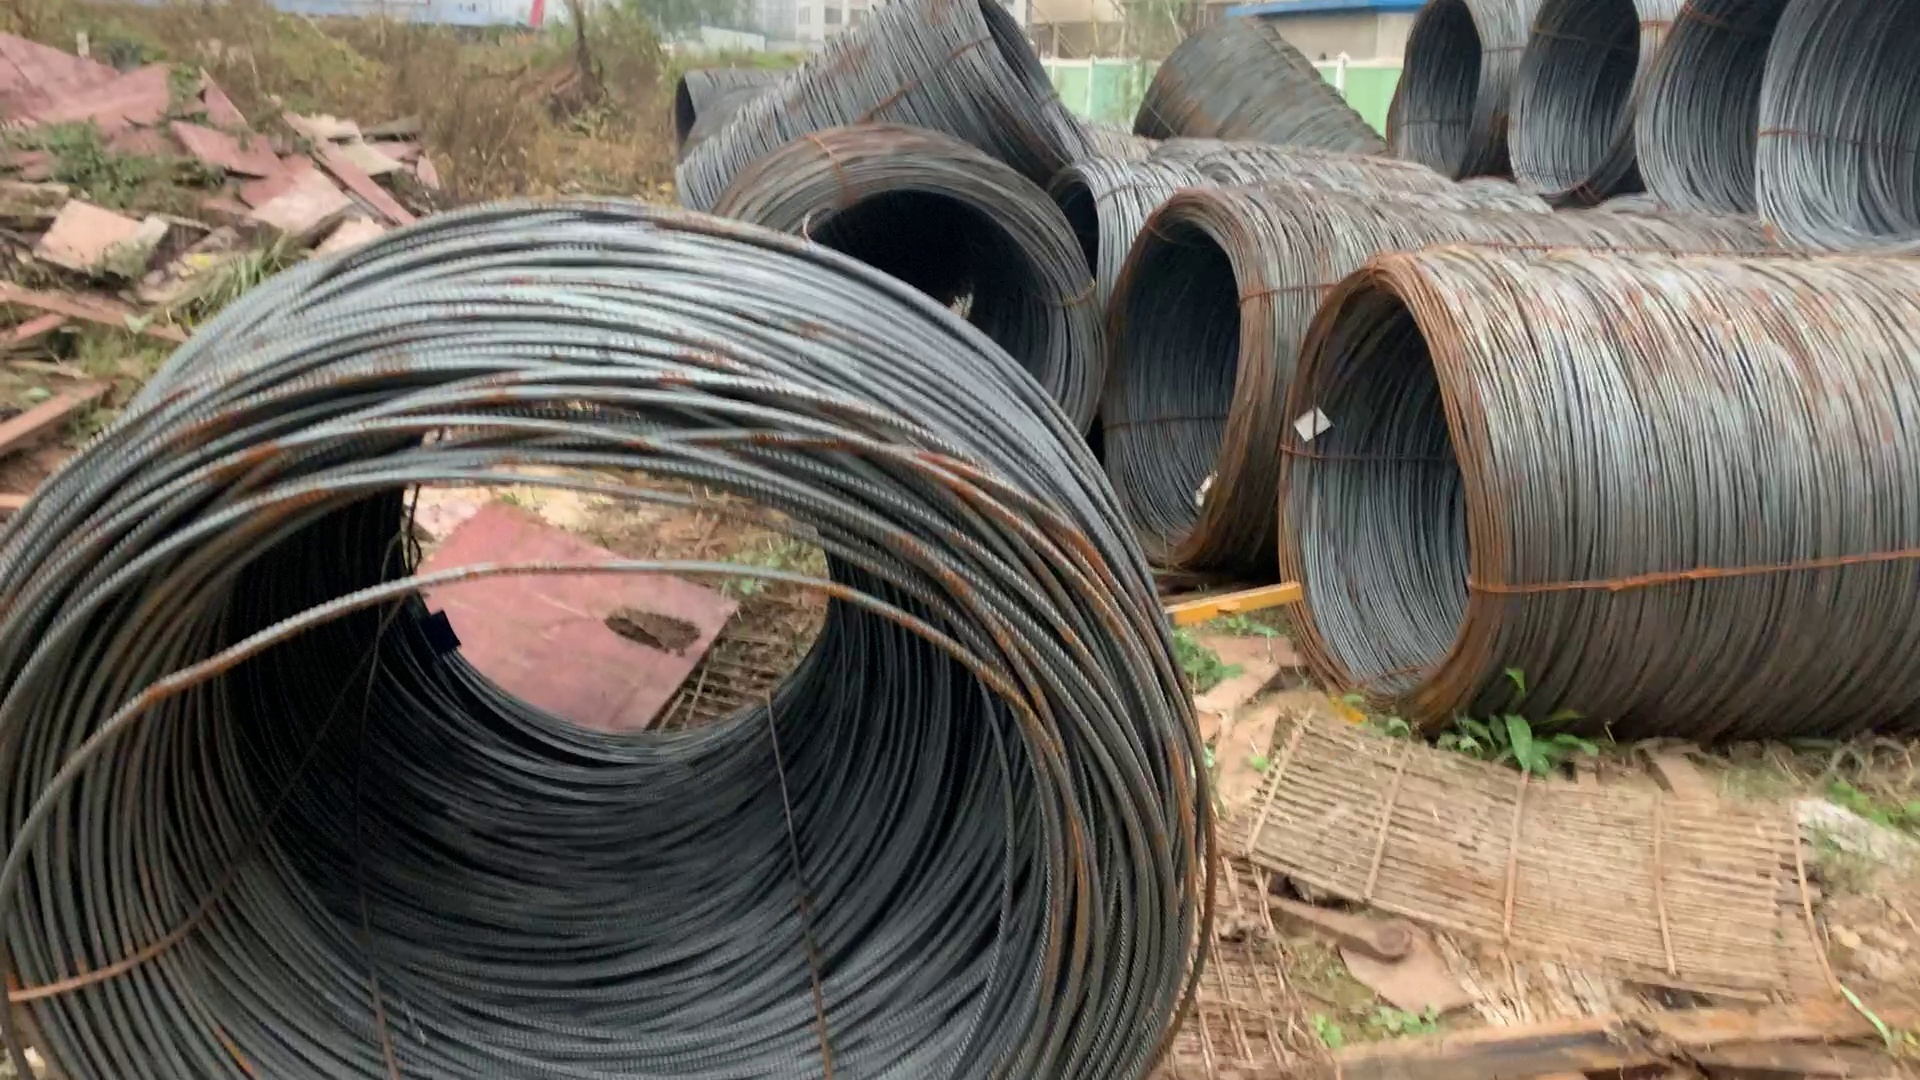coil: (3, 400, 1213, 1065), (1296, 266, 1510, 709), (760, 166, 1096, 440), (1118, 193, 1274, 578), (1764, 1, 1915, 280), (1646, 1, 1778, 227), (963, 1, 1116, 191), (1509, 1, 1643, 207), (1386, 1, 1493, 179), (659, 71, 709, 167)
